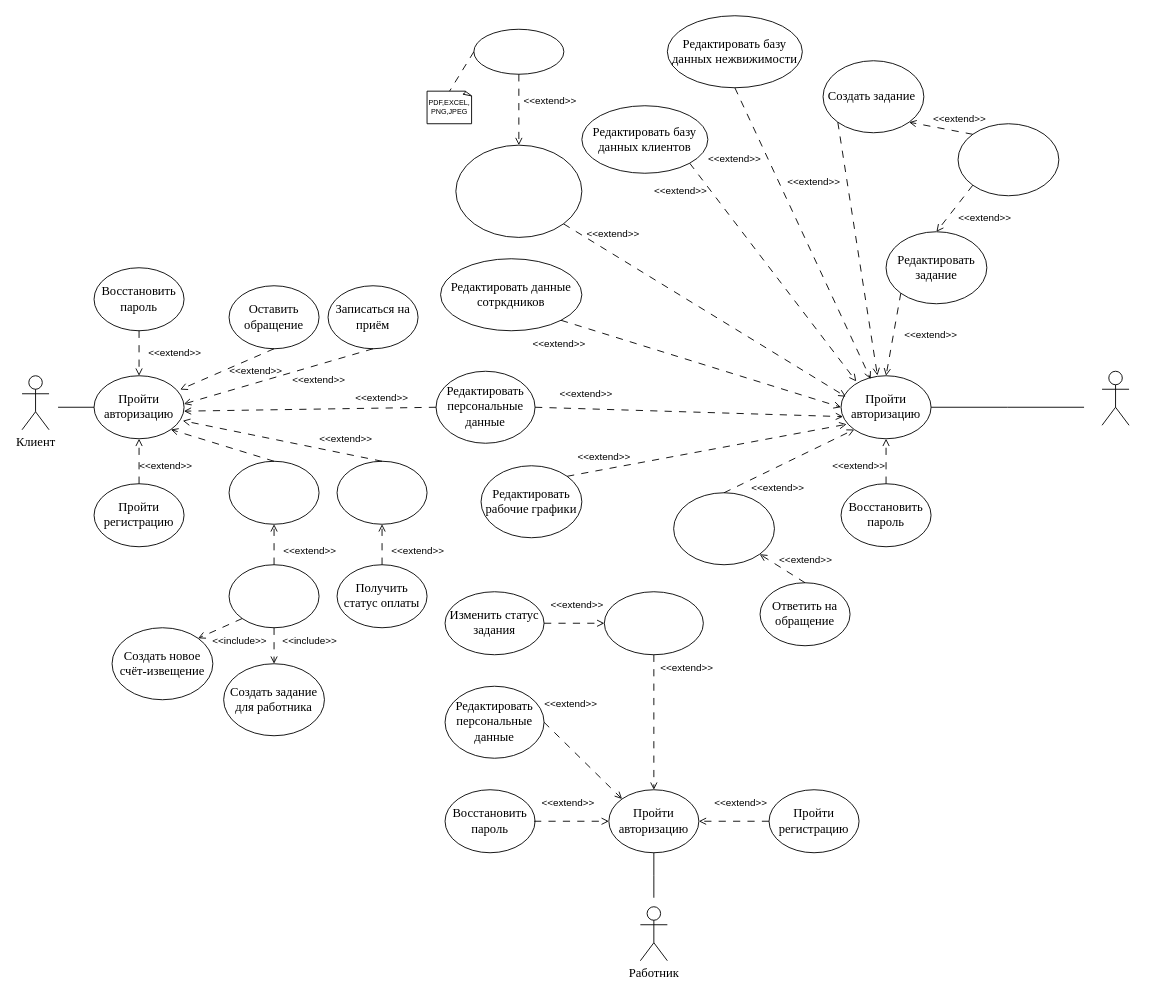
Image size: 1173x998. Some labels were removed from this diagram. The centre of each missing label's shape, as x and y in pixels:
"Администратор" goes at (x=1115, y=397).
"Заказать услугу" goes at (x=273, y=596).
"Назначить сотрудника" goes at (x=1008, y=159).
"Посмотреть список заданий" goes at (x=653, y=623).
"Посмотреть список обращений" goes at (x=723, y=528).
"Прикрепить файл" goes at (x=518, y=51).
"Просмотреть извещение" goes at (x=381, y=492).
"Просмотреть список услуг" goes at (x=273, y=492).
"Создать/удалить/редактировать новостную публикацию" goes at (x=518, y=190).
